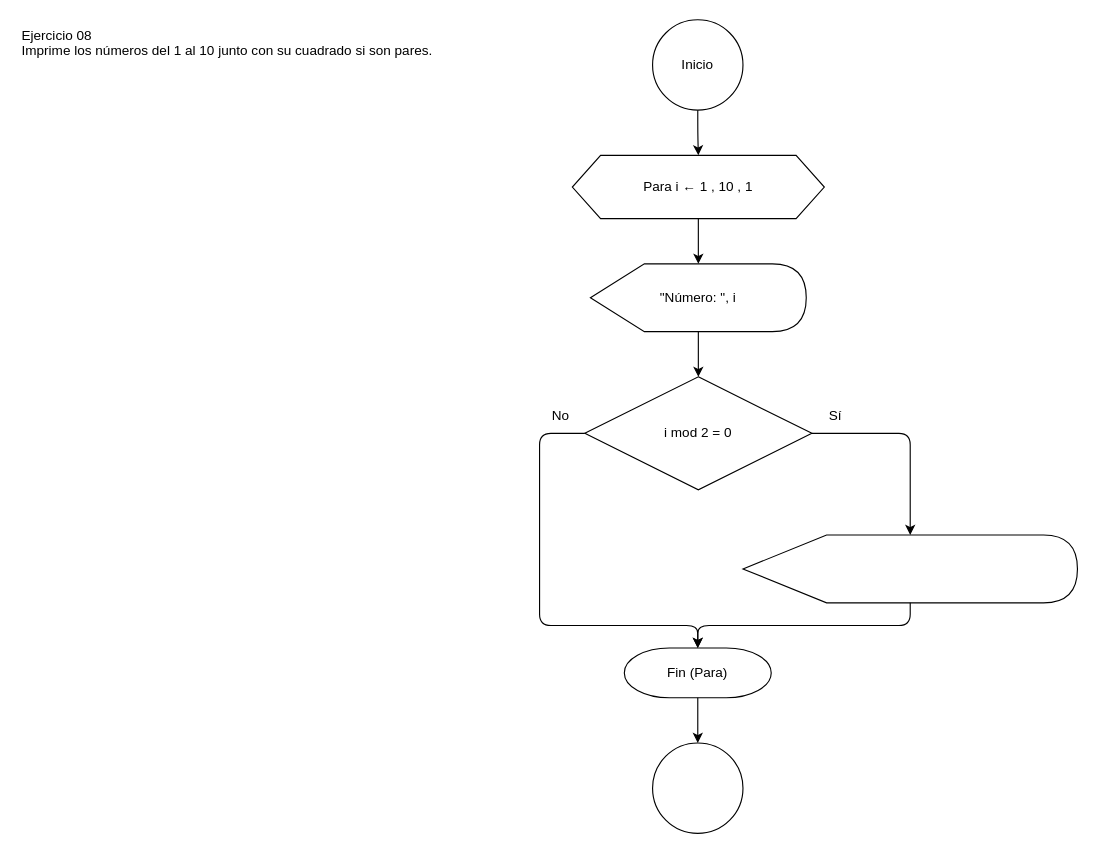
Some shapes in this 1097 by 853 pixel diagram are drawn without their labels. Each missing label, with the centre of its shape:
" Su cuadrado es: ", i * i: the point at 909,568
Fin: the point at 697,787
